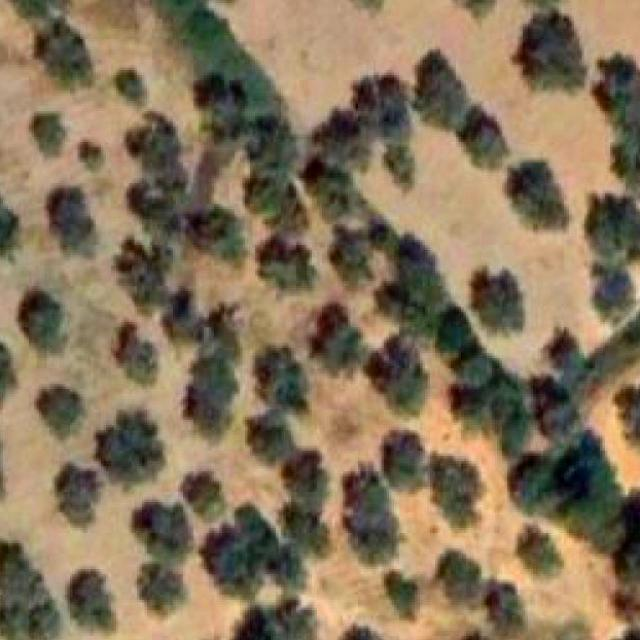Tree: (376, 234, 452, 338), (202, 506, 280, 598), (512, 8, 588, 92), (353, 75, 408, 188), (0, 541, 60, 640), (343, 464, 398, 564), (96, 409, 166, 484), (281, 451, 330, 556), (366, 335, 429, 416), (186, 351, 240, 442), (505, 160, 570, 230), (428, 456, 487, 532), (116, 238, 173, 312), (413, 50, 467, 128), (194, 72, 251, 145), (510, 456, 574, 518), (121, 176, 186, 236), (310, 304, 365, 374), (229, 598, 318, 640), (37, 22, 93, 88), (125, 108, 181, 173), (471, 268, 526, 334), (132, 502, 192, 562), (312, 109, 371, 169), (46, 186, 96, 256), (456, 106, 508, 170), (586, 194, 640, 255), (597, 54, 640, 130), (257, 235, 317, 289), (186, 206, 243, 262), (587, 255, 637, 317), (255, 346, 303, 410), (18, 289, 66, 353), (54, 464, 99, 528), (544, 327, 588, 391), (114, 322, 158, 386), (381, 433, 430, 490), (248, 410, 298, 464), (68, 572, 113, 632), (330, 224, 372, 287), (248, 121, 297, 174), (36, 387, 85, 439), (515, 525, 563, 576), (162, 286, 205, 342), (487, 582, 528, 640), (140, 564, 186, 615), (438, 551, 482, 604), (615, 490, 640, 582), (186, 471, 228, 521), (32, 114, 67, 158), (615, 384, 640, 443), (388, 574, 418, 621), (0, 186, 19, 256), (0, 332, 16, 405), (613, 586, 640, 622), (116, 70, 142, 104), (454, 0, 495, 20), (80, 142, 102, 171), (342, 625, 383, 640)
